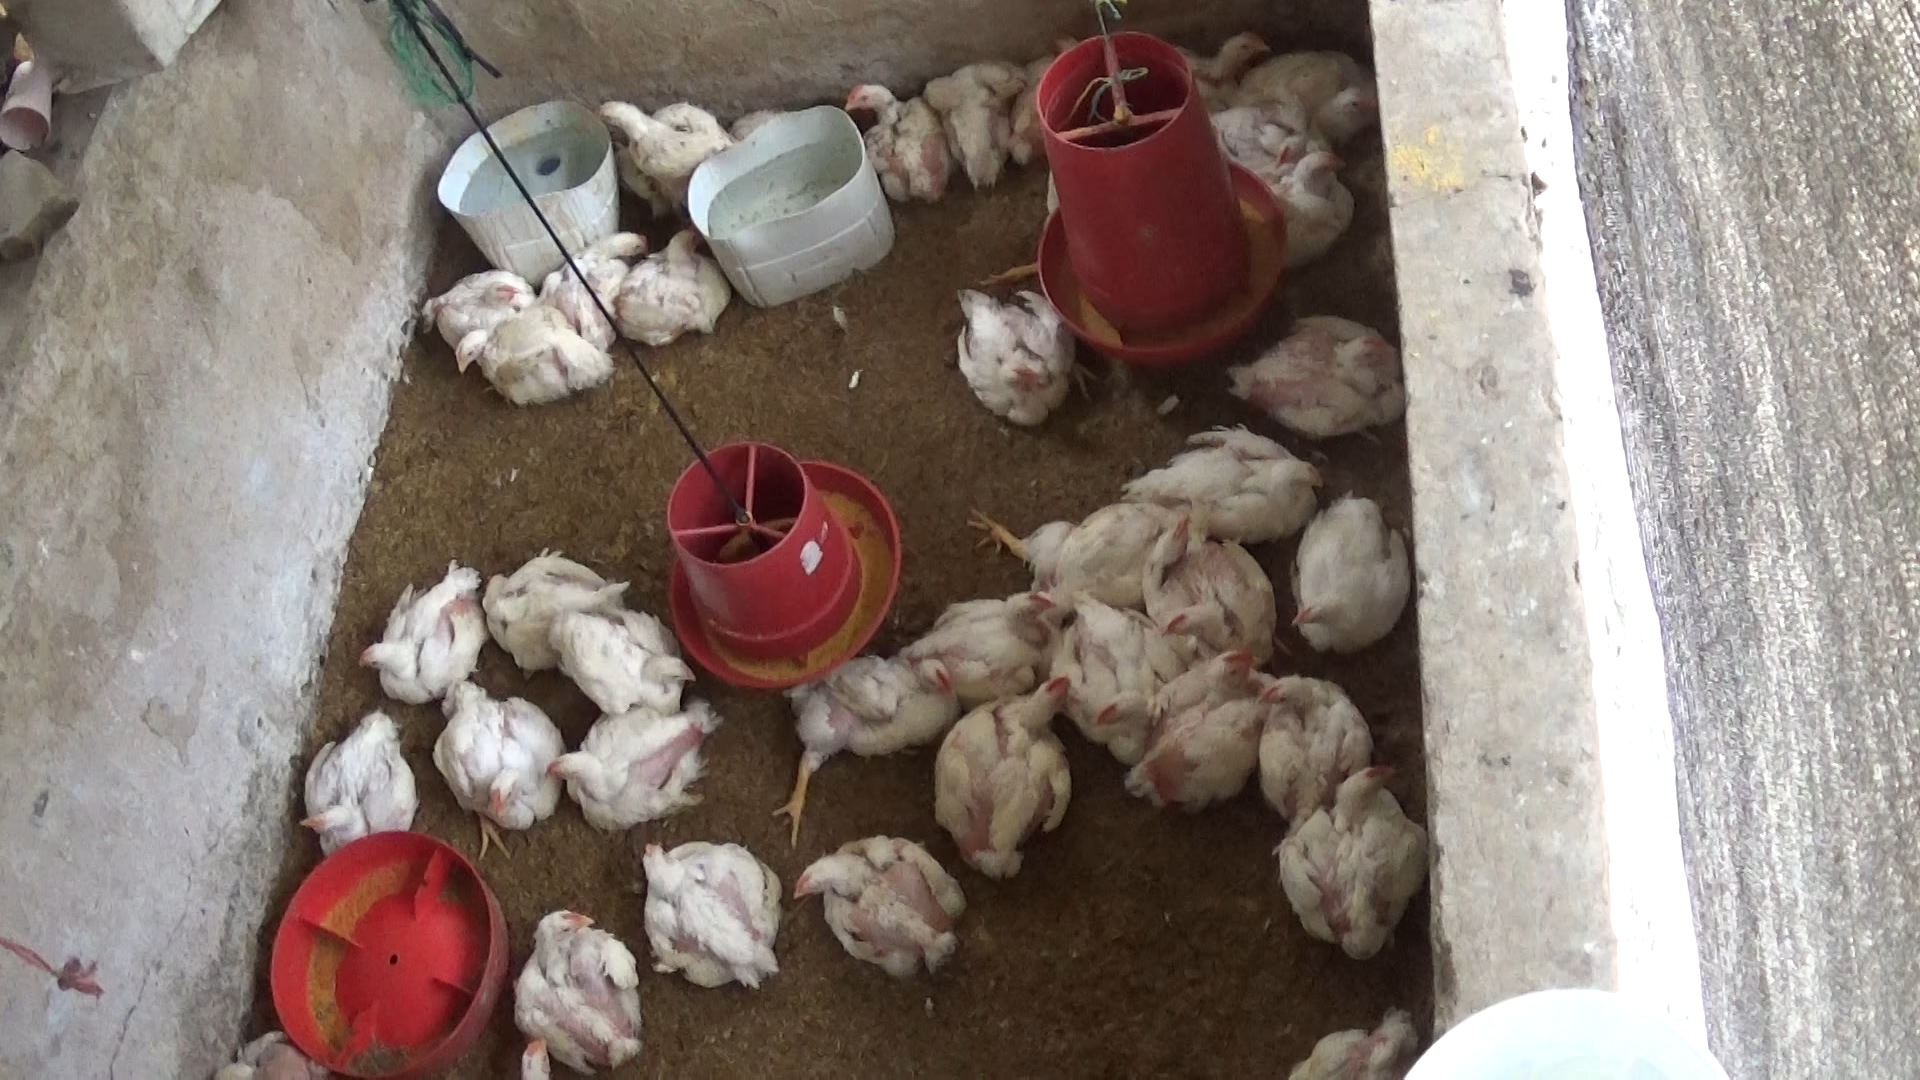Pollos: (1273, 753, 1439, 949), (1212, 302, 1403, 447), (939, 670, 1073, 873), (1127, 630, 1280, 802), (1126, 433, 1328, 562), (1039, 585, 1185, 762), (1280, 483, 1412, 673), (794, 833, 969, 975), (636, 836, 793, 990), (773, 644, 963, 767), (512, 899, 646, 1072), (1244, 665, 1385, 825), (549, 696, 720, 819), (1137, 530, 1288, 669), (436, 669, 556, 841), (360, 562, 491, 707), (948, 287, 1077, 425), (556, 589, 707, 707), (294, 711, 419, 849), (1026, 500, 1188, 604), (477, 558, 629, 665), (624, 225, 752, 349), (916, 53, 1029, 190), (440, 313, 624, 396), (911, 587, 1058, 687), (1246, 41, 1386, 145), (1236, 145, 1358, 262), (843, 73, 945, 202), (584, 96, 731, 183), (549, 215, 651, 326), (1174, 18, 1265, 98), (419, 273, 537, 334)
